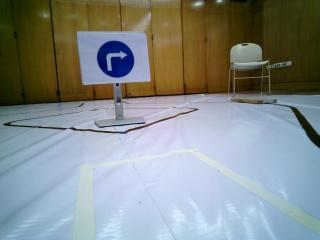right: (82, 36, 143, 78)
